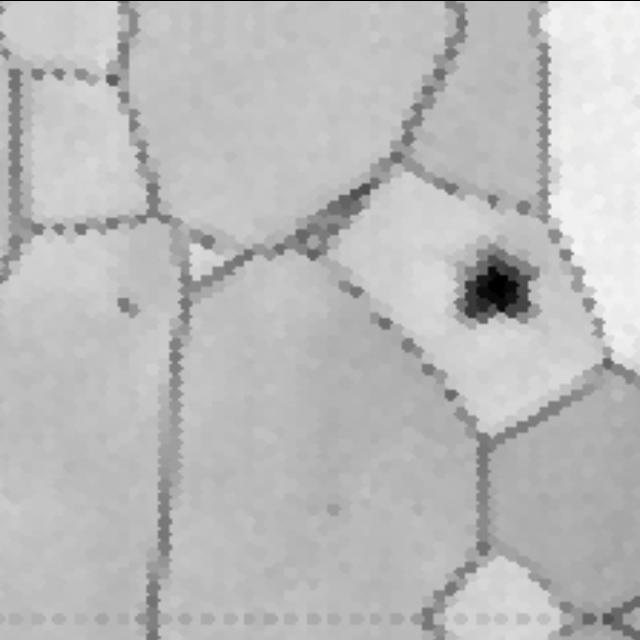good_void: (453, 240, 540, 330), (108, 290, 143, 326)
